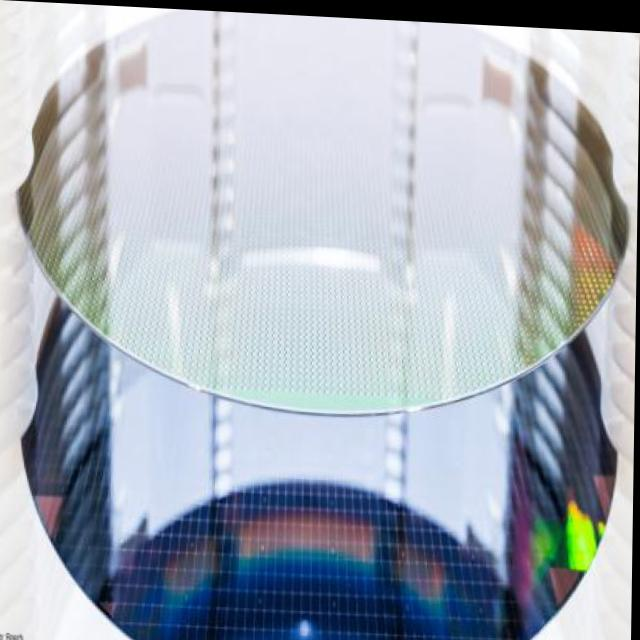Wafer: (1, 8, 633, 414), (22, 300, 621, 640)
